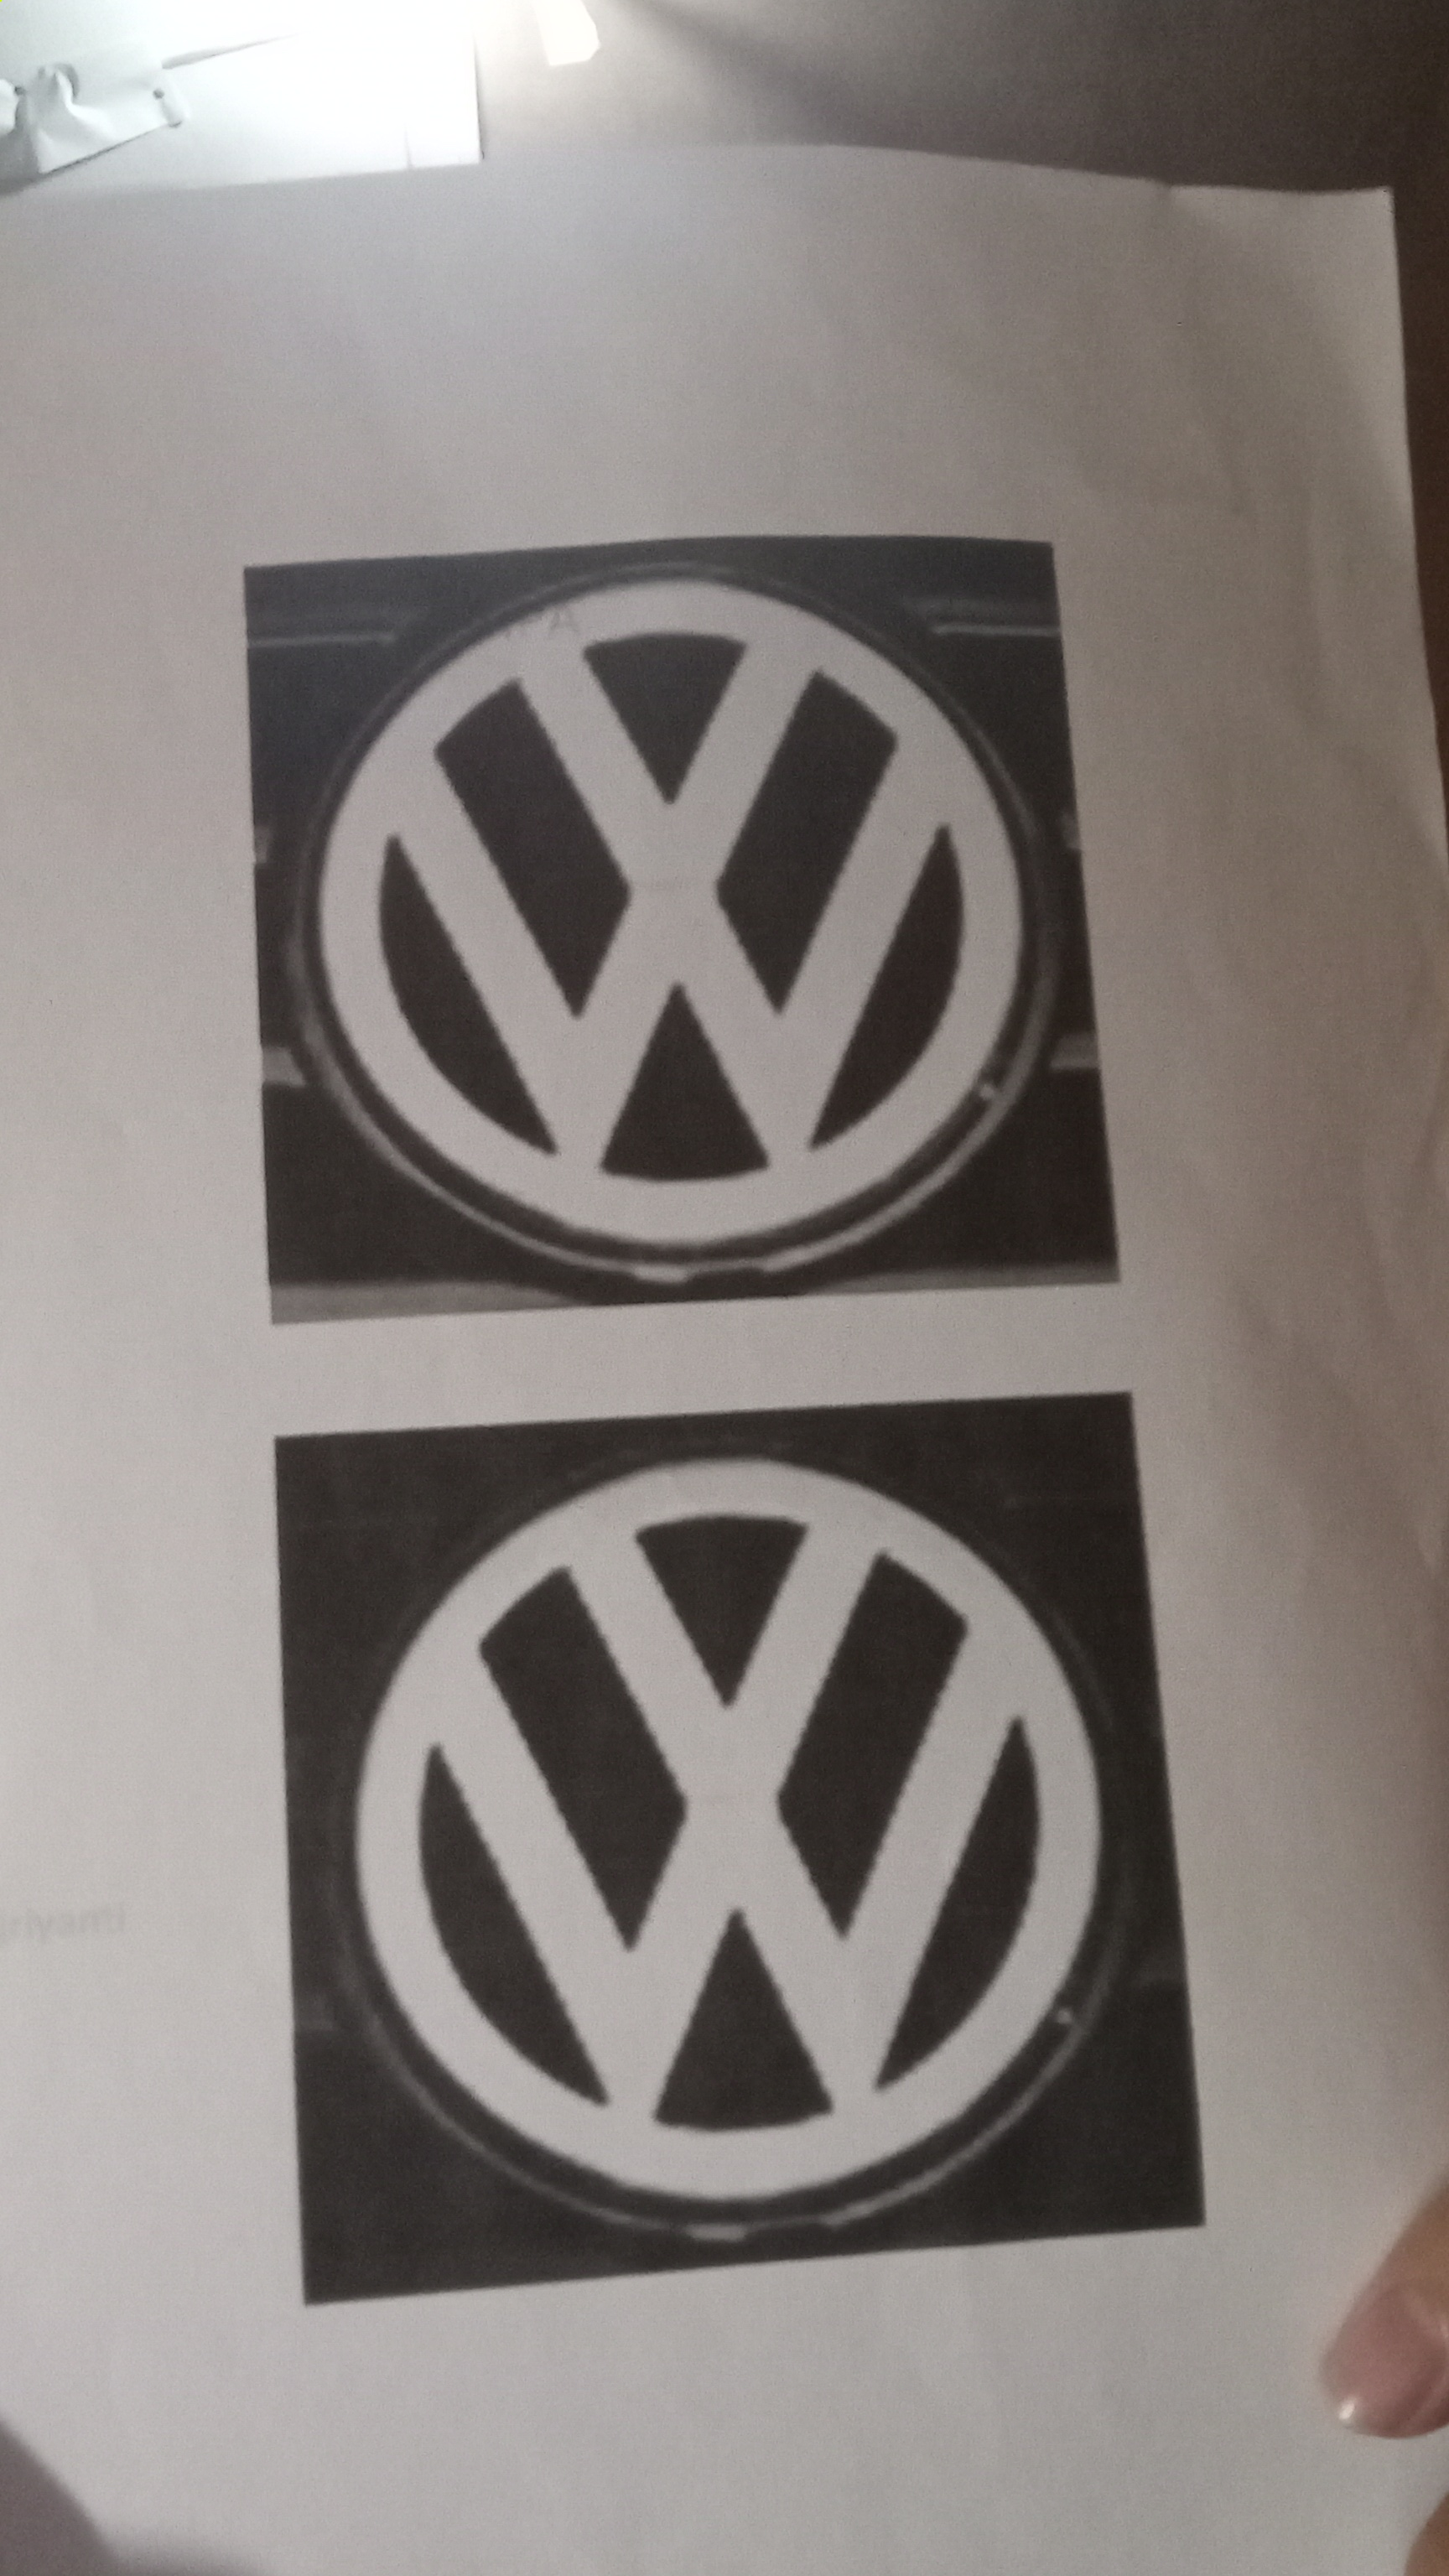Volkswagen: (308, 1433, 1143, 2242), (264, 570, 1093, 1284)
